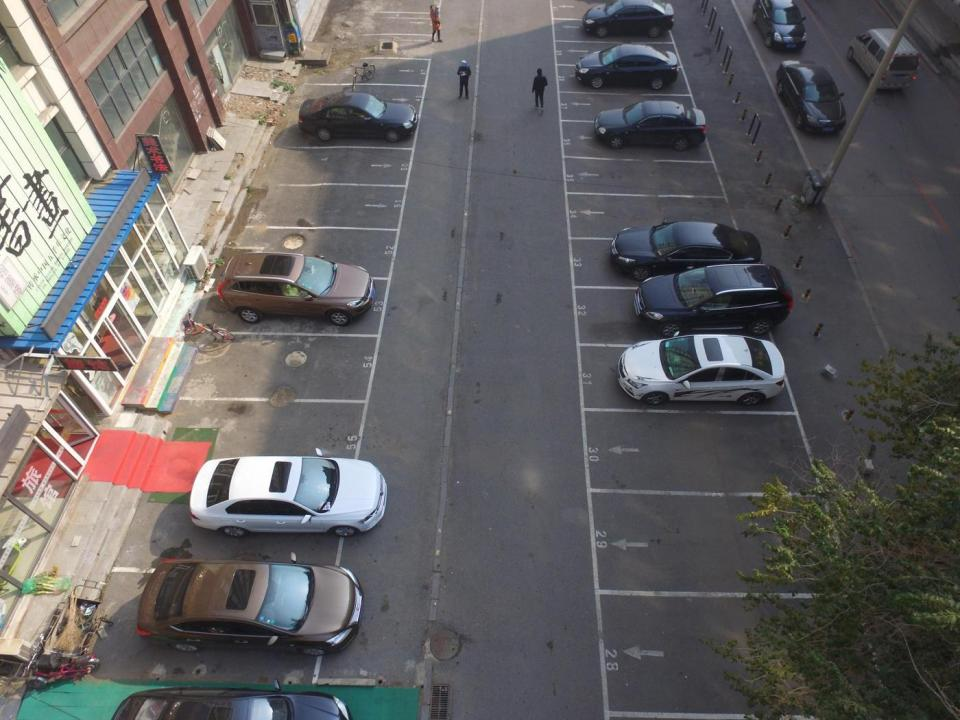car: (137, 552, 364, 656), (190, 447, 388, 539), (616, 331, 785, 405), (633, 264, 793, 340), (217, 253, 375, 326), (110, 677, 354, 720), (610, 219, 762, 284), (297, 92, 418, 143), (593, 100, 707, 152), (775, 58, 847, 135), (574, 43, 678, 91), (581, 0, 675, 38), (751, 0, 807, 53)
van: (846, 28, 920, 91)
